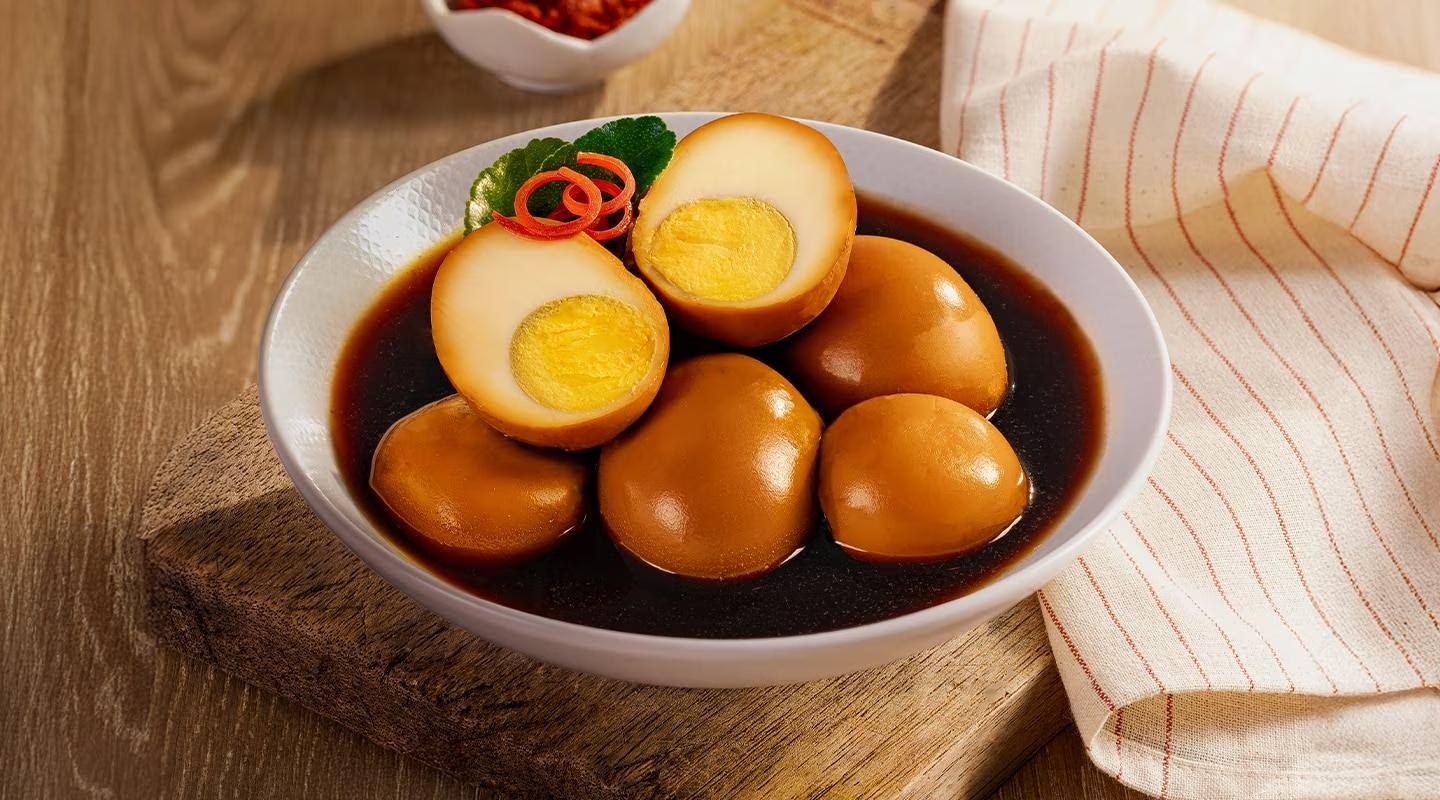telur: (436, 184, 984, 564)
